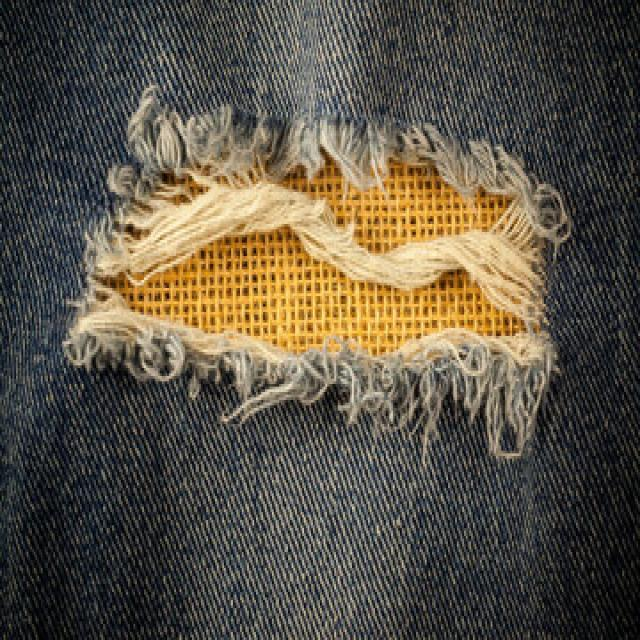Hole: (66, 88, 571, 376)
